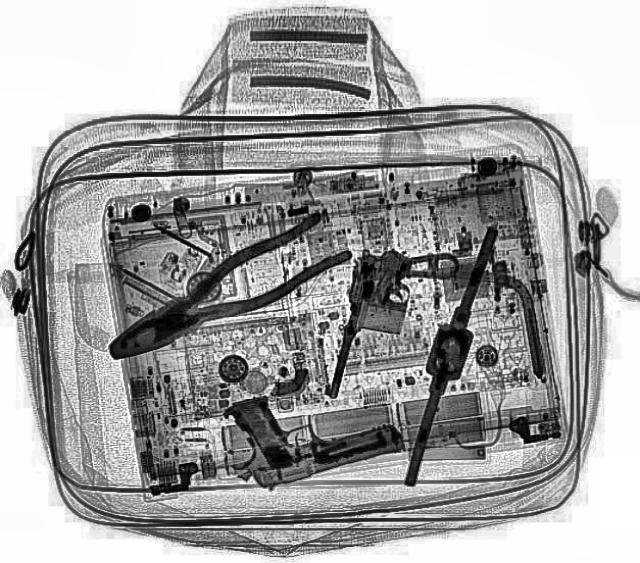Gun: (211, 362, 405, 494), (324, 240, 460, 408)
Pliers: (89, 204, 357, 380)
